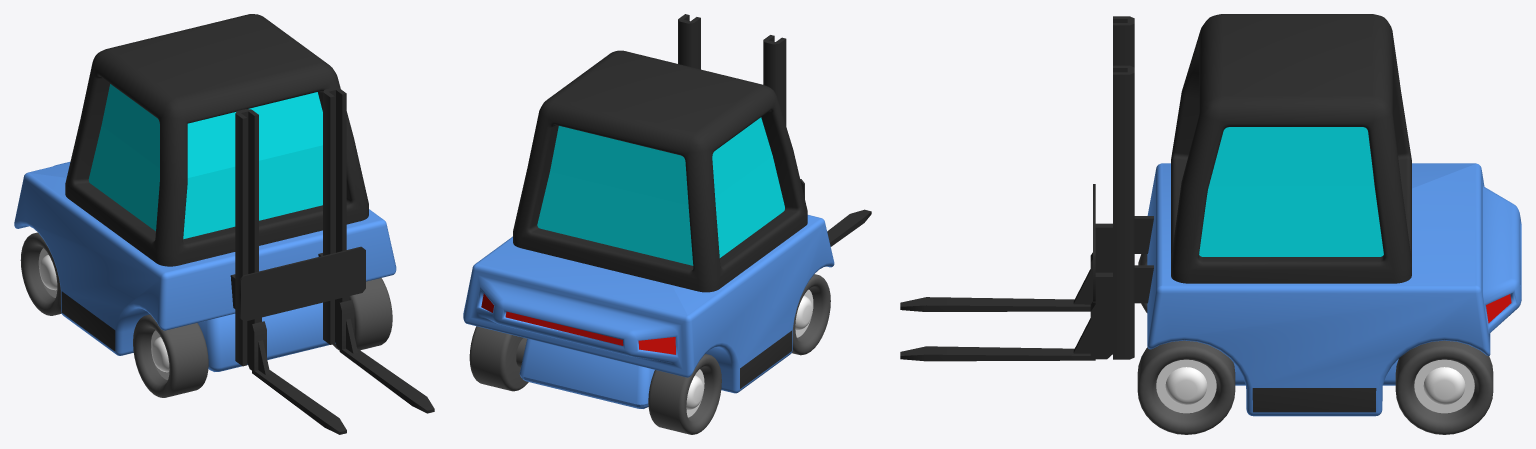
File: foklift.fbx
The picture shows the model from 3 angles, left to right: view 1: azimuth 30°, elevation 25°; view 2: azimuth 150°, elevation 25°; view 3: azimuth 270°, elevation 25°; orthographic projection. The views are drawn at different scales.
Visible parts, largest first — view 1: govde, kaldirac, onTeker, arkaTeker; view 2: govde, arkaTeker, onTeker, kaldirac; view 3: govde, kaldirac, onTeker, arkaTeker.
Part boxes in pixels (x1,y1,x2,y2): govde: [14, 14, 396, 371]; kaldirac: [239, 246, 434, 434]; onTeker: [133, 278, 392, 397]; arkaTeker: [20, 232, 61, 315]; govde: [463, 14, 834, 408]; arkaTeker: [469, 326, 721, 434]; onTeker: [792, 274, 830, 355]; kaldirac: [800, 179, 871, 246]; govde: [1113, 14, 1521, 416]; kaldirac: [900, 184, 1112, 361]; onTeker: [1137, 254, 1235, 434]; arkaTeker: [1395, 340, 1493, 434].
Bounding box in the file's own units: 226 × 260 × 445.
